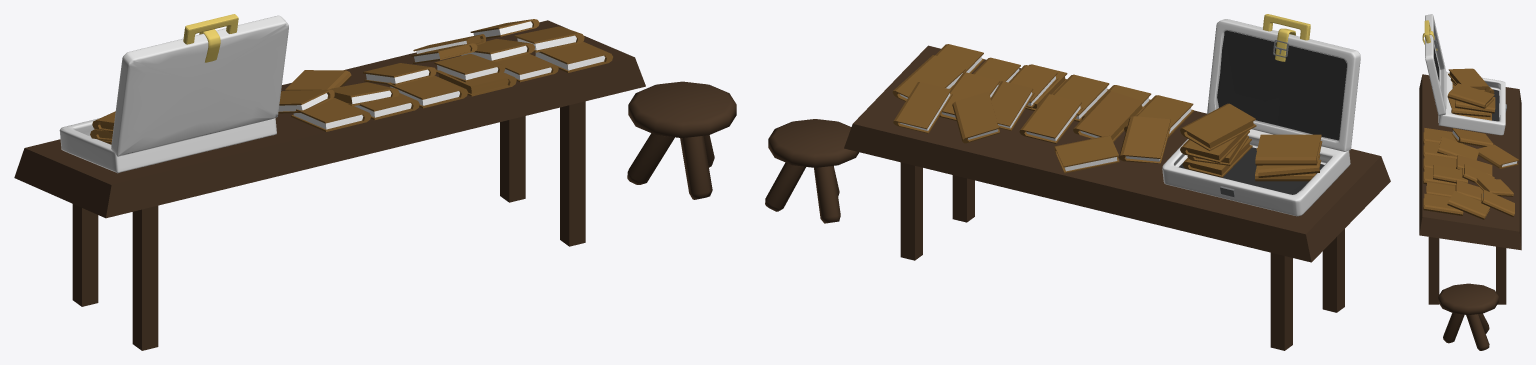
The model's file is BookStand.fbx.
The picture shows the model from 3 angles, left to right: view 1: azimuth 30°, elevation 25°; view 2: azimuth 150°, elevation 25°; view 3: azimuth 270°, elevation 25°; orthographic projection. The views are drawn at different scales.
Parts seen in each view (by area): view 1: BookStand; view 2: BookStand; view 3: BookStand.
Part boxes in pixels (<box>): BookStand: <box>14,14,736,350</box>; BookStand: <box>765,14,1390,350</box>; BookStand: <box>1419,14,1521,350</box>.
Size of the model in its own units: 1.95 by 0.4639 by 0.8844.
